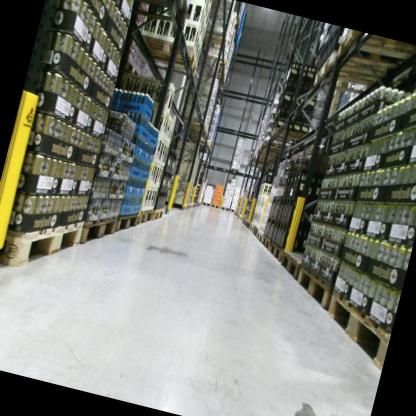pallet: (0, 204, 91, 293), (314, 288, 397, 370), (308, 44, 396, 104), (127, 30, 207, 79), (335, 28, 416, 75), (291, 263, 337, 316), (113, 0, 191, 26), (78, 209, 121, 256), (195, 23, 233, 52), (267, 126, 310, 151), (278, 248, 308, 283), (113, 207, 143, 242), (199, 51, 230, 73), (267, 238, 289, 264), (135, 204, 156, 231), (260, 140, 294, 156), (177, 115, 207, 132), (183, 123, 210, 140), (150, 205, 166, 223), (260, 232, 274, 252), (255, 229, 267, 247), (251, 224, 261, 238), (179, 203, 188, 213), (200, 200, 211, 208), (245, 219, 252, 230), (220, 205, 231, 212), (230, 166, 240, 173), (211, 204, 220, 211), (249, 223, 254, 234), (230, 207, 239, 213), (186, 203, 190, 210), (188, 203, 192, 210)
